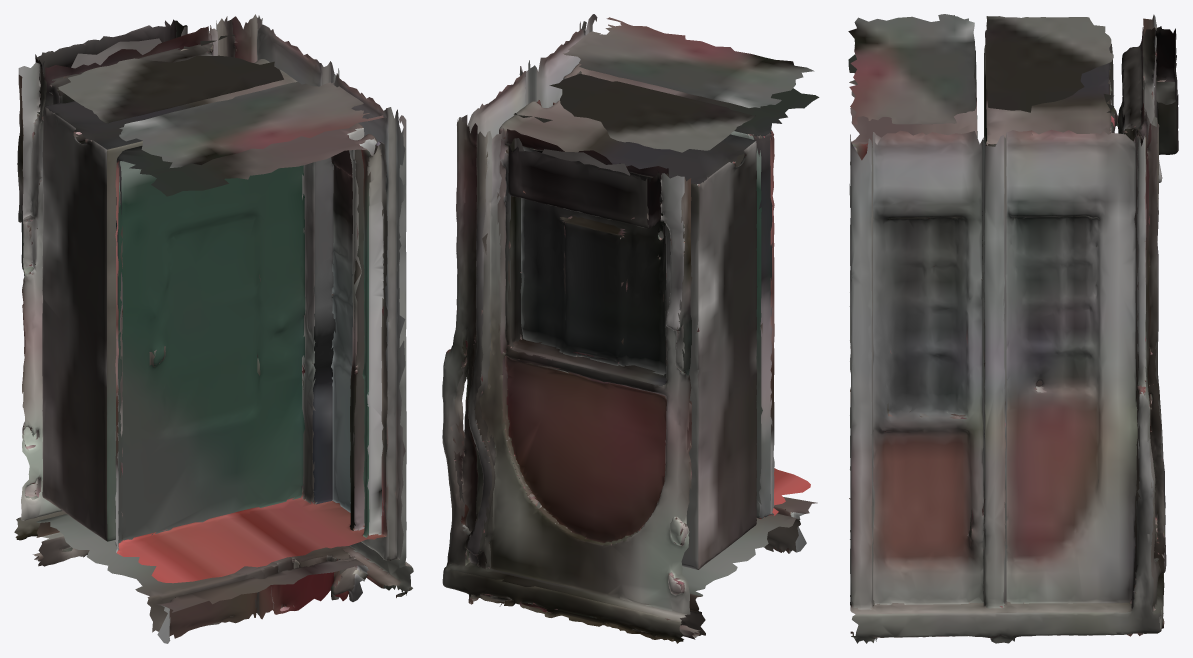
3 renders of one model, left to right at view 1: azimuth 30°, elevation 25°; view 2: azimuth 150°, elevation 25°; view 3: azimuth 270°, elevation 25°, orthographic. The views are drawn at different scales.
Parts seen in each view (by area): view 1: corner; view 2: corner; view 3: corner.
Part boxes in pixels (x1,y1,x2,y2): corner: (14, 14, 413, 643); corner: (442, 14, 819, 643); corner: (848, 14, 1178, 643).
Size of the model in its own units: 0.5579 by 1.03 by 0.6044.
1 material, 1 textured.
